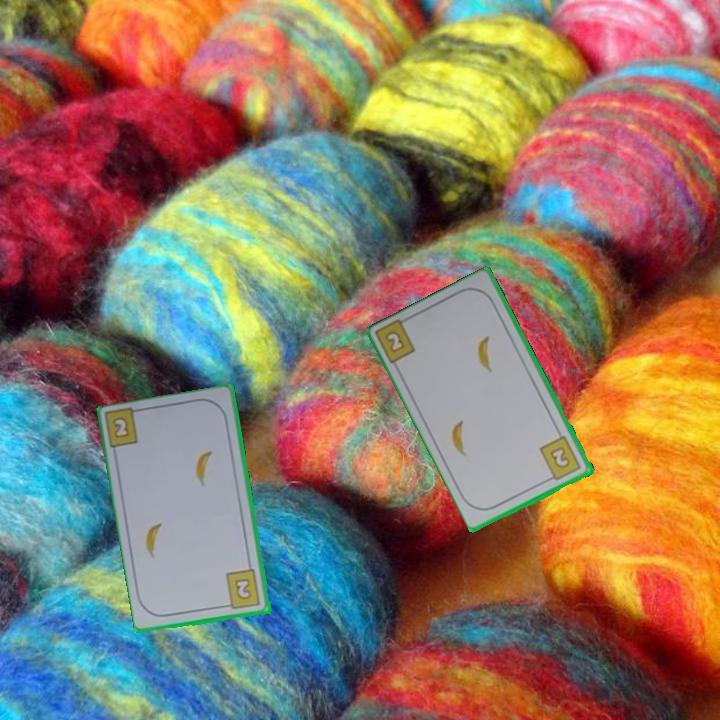2b: (536, 433, 584, 484), (221, 566, 263, 612), (382, 327, 408, 356), (109, 413, 132, 442)
